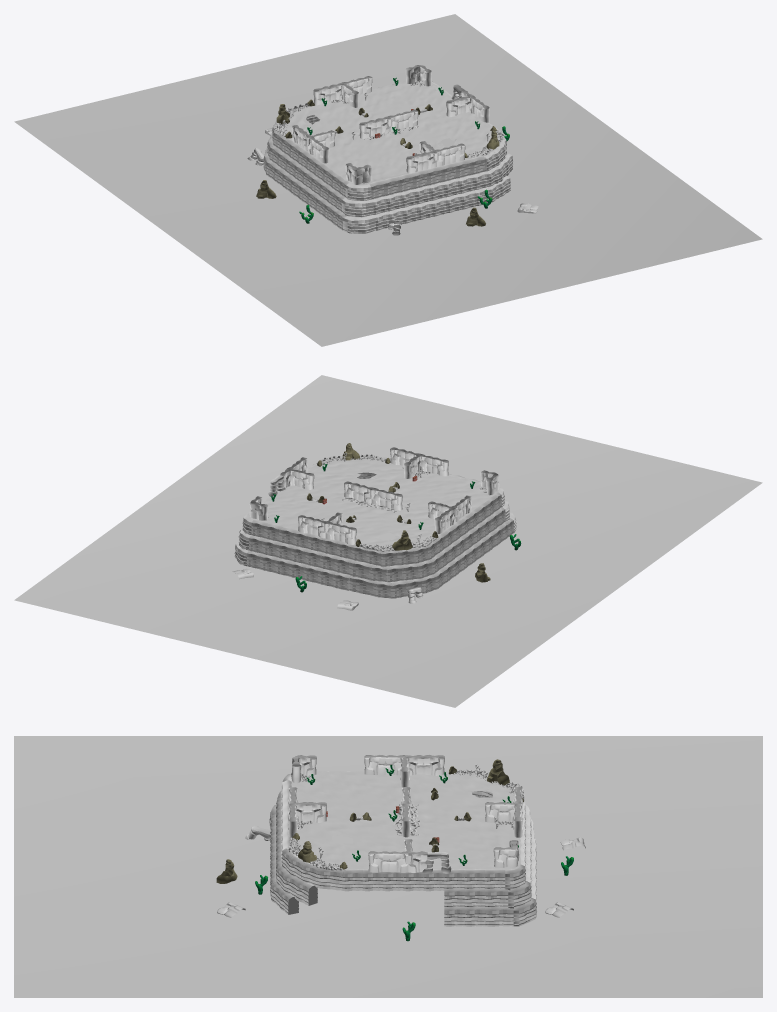
The model's file is Level1_Room6NewV2.fbx.
3 renders of one model, top to bottom at view 1: azimuth 30°, elevation 25°; view 2: azimuth 150°, elevation 25°; view 3: azimuth 270°, elevation 25°, orthographic. The views are drawn at different scales.
Visible parts, largest first — view 1: Floor, Exterior Walls, Walls Interior, GigaRock003, Stones Corner; view 2: Floor, Exterior Walls, Walls Interior, Stones Corner, GigaRock003; view 3: Floor, Exterior Walls, Walls Interior, GigaRock003, Stones Corner, Cactus, Middle Rocks.
Boxes of the visible parts, x1,y1,x2,y2 form: Floor: [14, 14, 762, 346]; Exterior Walls: [263, 81, 513, 233]; Walls Interior: [265, 65, 538, 213]; GigaRock003: [256, 104, 499, 226]; Stones Corner: [273, 80, 504, 157]; Floor: [14, 375, 762, 707]; Exterior Walls: [234, 455, 516, 598]; Walls Interior: [233, 447, 499, 610]; Stones Corner: [268, 454, 486, 551]; GigaRock003: [342, 443, 490, 582]; Floor: [14, 736, 762, 997]; Exterior Walls: [269, 771, 536, 926]; Walls Interior: [217, 755, 585, 917]; GigaRock003: [216, 759, 509, 883]; Stones Corner: [288, 769, 523, 870]; Cactus: [255, 765, 573, 941]; Middle Rocks: [292, 766, 523, 869].
Size of the model in its own units: 4772 by 693 by 5766.
